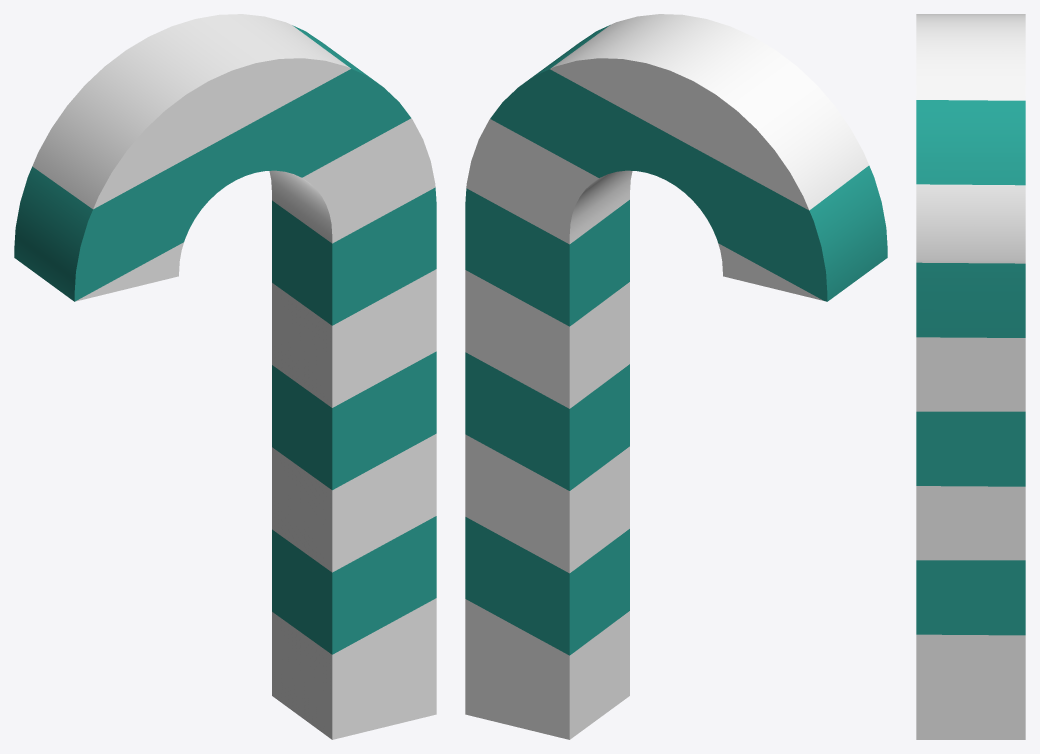
The model's file is candyCaneMint.fbx.
The picture shows the model from 3 angles, left to right: view 1: azimuth 30°, elevation 25°; view 2: azimuth 150°, elevation 25°; view 3: azimuth 270°, elevation 25°; orthographic projection. The views are drawn at different scales.
Parts seen in each view (by area): view 1: candyCaneMint; view 2: candyCaneMint; view 3: candyCaneMint.
Boxes of the visible parts, x1,y1,x2,y2 form: candyCaneMint: (14, 14, 436, 739); candyCaneMint: (465, 14, 887, 739); candyCaneMint: (916, 14, 1025, 739).
Bounding box in the file's own units: 1.38 × 2.54 × 0.399.
